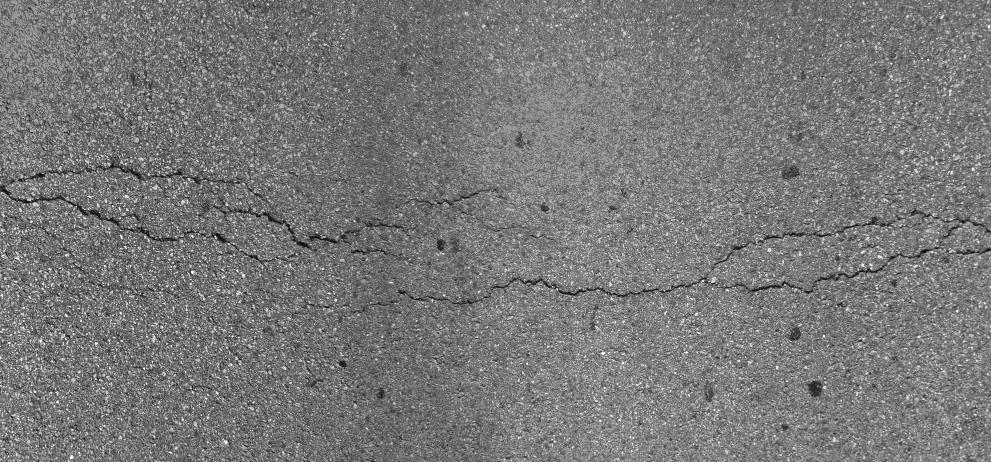crack: (2, 146, 401, 320), (454, 261, 888, 331), (714, 206, 991, 303)
